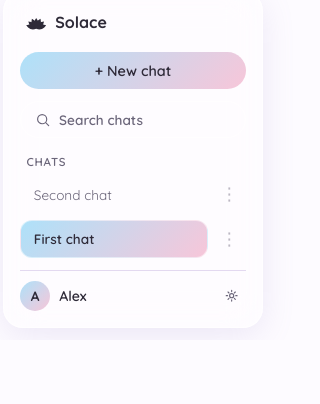
Test: Sidebar › options menu › closes the menu on Escape
This screenshot has width=320, height=404.
Click the button named "Options for First chat" at [229, 239], box top-left (212, 225), bottom-right (246, 252)
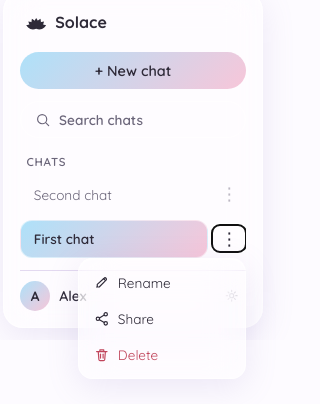
Result: the menu is shown at top-left (78, 258), bottom-right (246, 379)
Press Escape
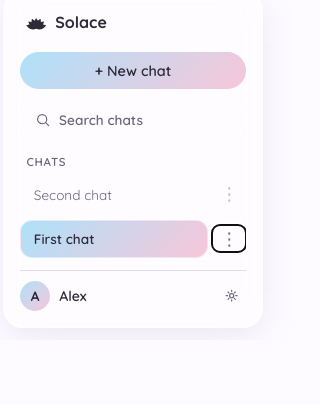
Result: the menu is gone
